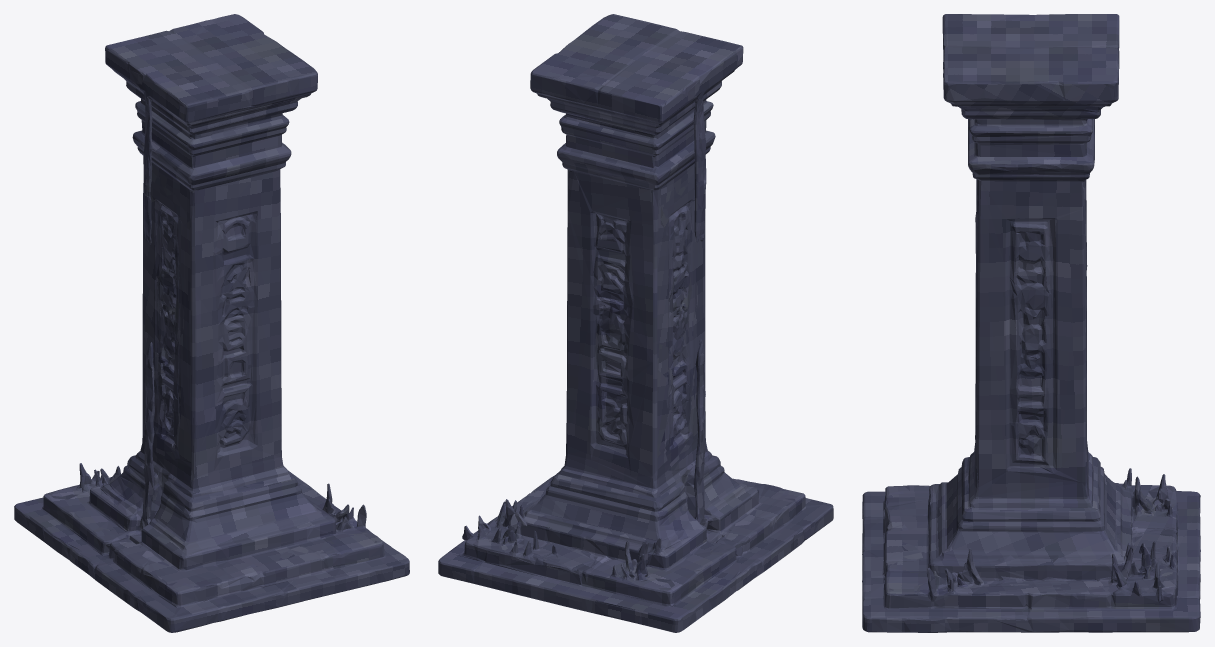
The model's file is weathered-monolith-pillar-generated-2026-04-19T23-36-30-619Z.low.glb.
3 views of the same model, side by side, from view 1: azimuth 30°, elevation 25°; view 2: azimuth 150°, elevation 25°; view 3: azimuth 270°, elevation 25° (orthographic). The views are drawn at different scales.
Parts seen in each view (by area): view 1: temp_mesh.ply; view 2: temp_mesh.ply; view 3: temp_mesh.ply.
Part boxes in pixels (x1,y1,x2,y2): temp_mesh.ply: (14,14,409,632); temp_mesh.ply: (438,14,833,632); temp_mesh.ply: (862,14,1200,632).
Bounding box in the file's own units: 1.03 × 1.96 × 1.15.
1 material, 1 textured.
